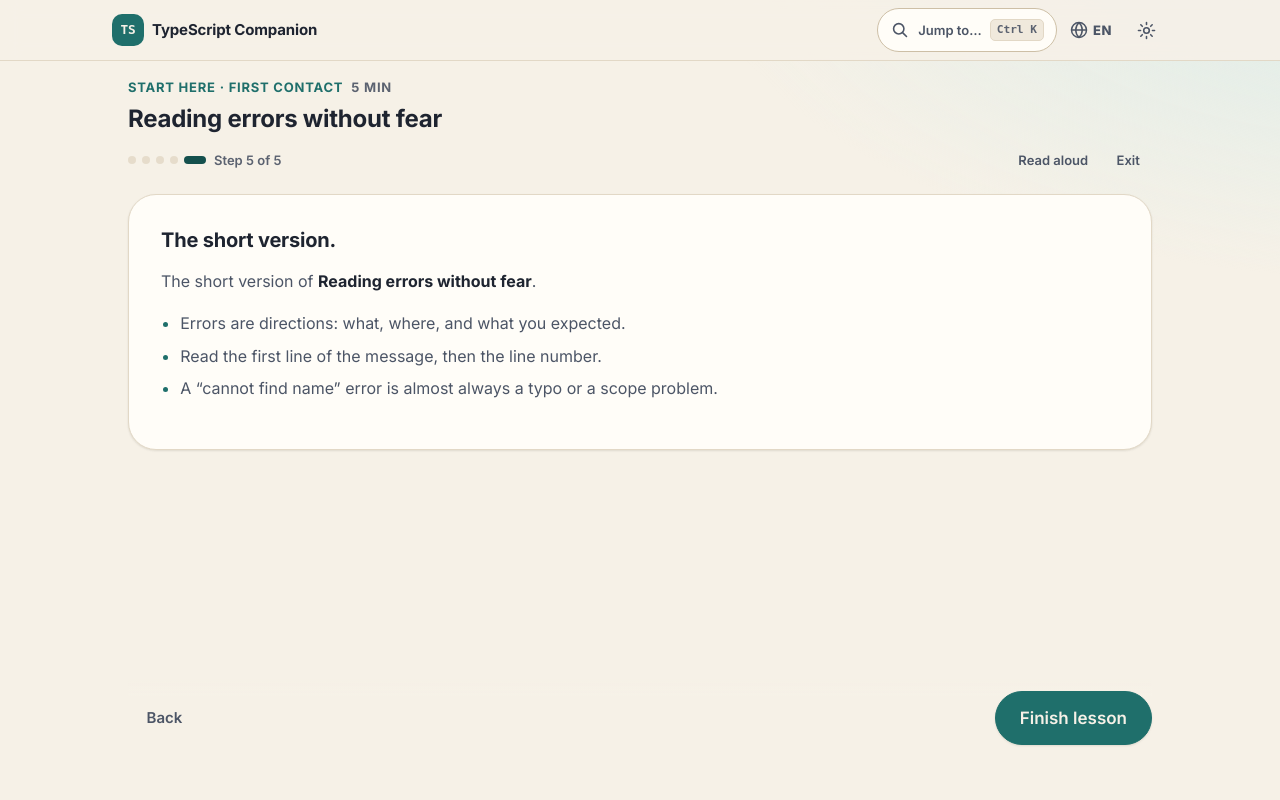
Scenario: the end of a lesson › celebrates a finished module, with the points it earned and its badge
The image size is (1280, 800).
Click the button "Finish lesson". click: point(1073, 718)
box: x1=995 y1=691 x2=1152 y2=745
(page scrolled)
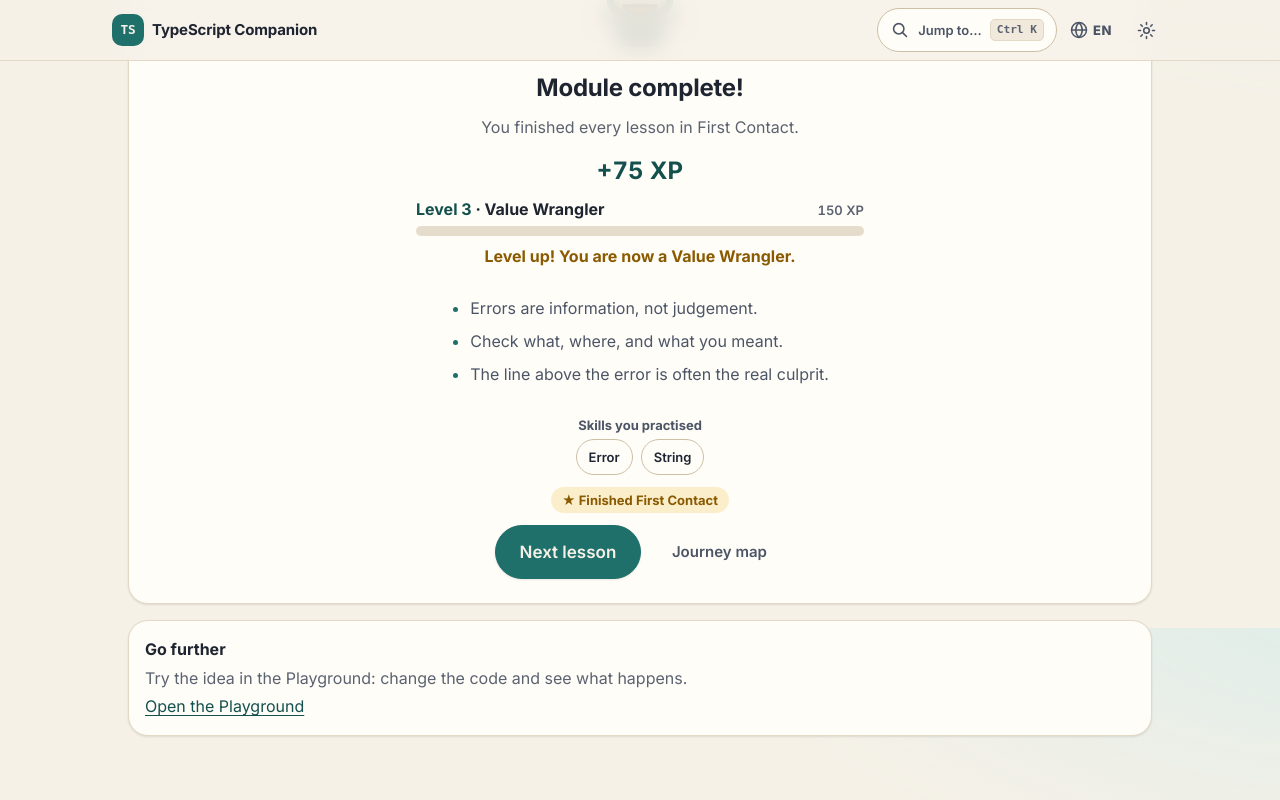
Check: the heading "Module complete!" is shown, box x1=536 y1=74 x2=744 y2=103
Check: the text "+75 XP" is shown, box x1=597 y1=152 x2=683 y2=189
Check: the link "Open the Playground" is shown, box x1=145 y1=696 x2=304 y2=716
